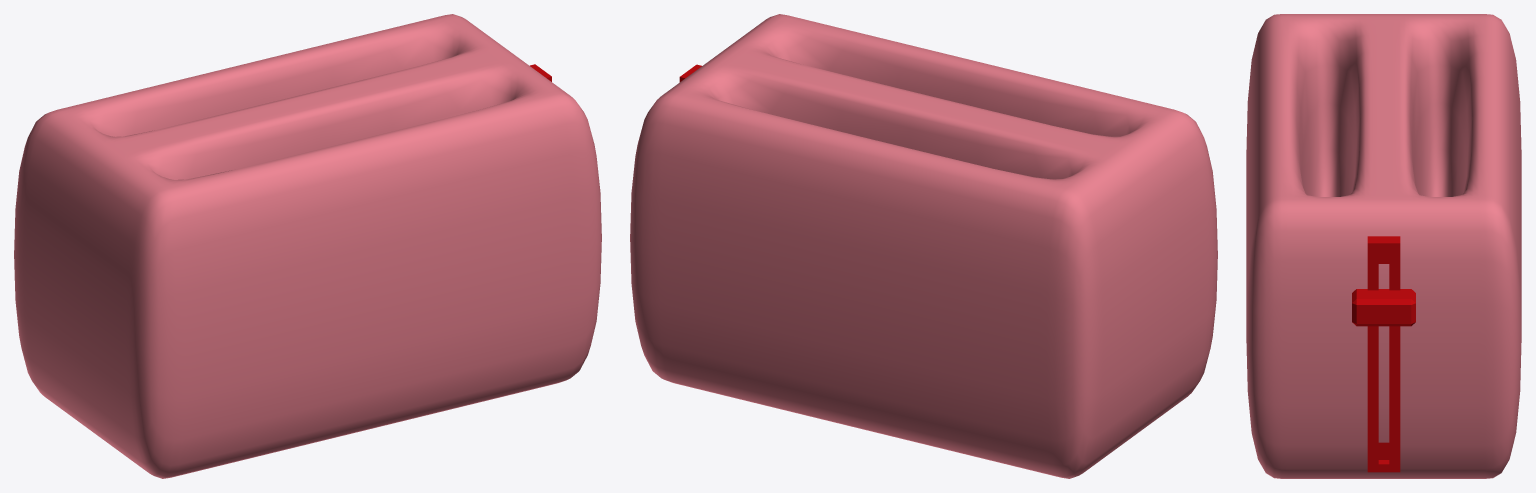
Rendered from fruit_target.gltf.
The picture shows the model from 3 angles, left to right: view 1: azimuth 30°, elevation 25°; view 2: azimuth 150°, elevation 25°; view 3: azimuth 270°, elevation 25°; orthographic projection. The views are drawn at different scales.
Parts seen in each view (by area): view 1: fruit_target; view 2: fruit_target; view 3: fruit_target, Cube.002, Cube.001.
Part boxes in pixels (x1,y1,x2,y2): fruit_target: (14, 14, 601, 478); fruit_target: (630, 14, 1217, 478); fruit_target: (1246, 14, 1521, 478); Cube.002: (1367, 236, 1400, 472); Cube.001: (1352, 289, 1415, 326).
Size of the model in its own units: 0.4812 by 0.2689 by 0.2427.
